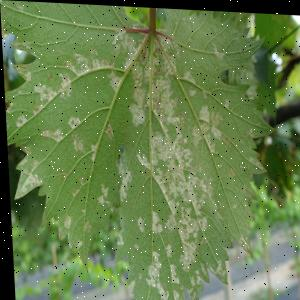Folha: (0, 0, 282, 300)
Fungo: (103, 25, 235, 300), (139, 130, 214, 257), (125, 31, 183, 129), (189, 102, 225, 151), (63, 43, 104, 77), (160, 238, 182, 300), (11, 157, 42, 200), (110, 156, 136, 205), (139, 250, 165, 298), (203, 252, 227, 283), (181, 269, 202, 300), (32, 81, 57, 102), (107, 223, 124, 250), (94, 179, 109, 208), (147, 208, 162, 236), (40, 125, 63, 142), (70, 132, 85, 153), (108, 66, 119, 91), (60, 213, 73, 231), (102, 120, 113, 140), (212, 40, 224, 58), (67, 114, 80, 129), (15, 113, 27, 128), (135, 214, 144, 232), (73, 238, 83, 254), (80, 219, 90, 233), (116, 142, 124, 156)
